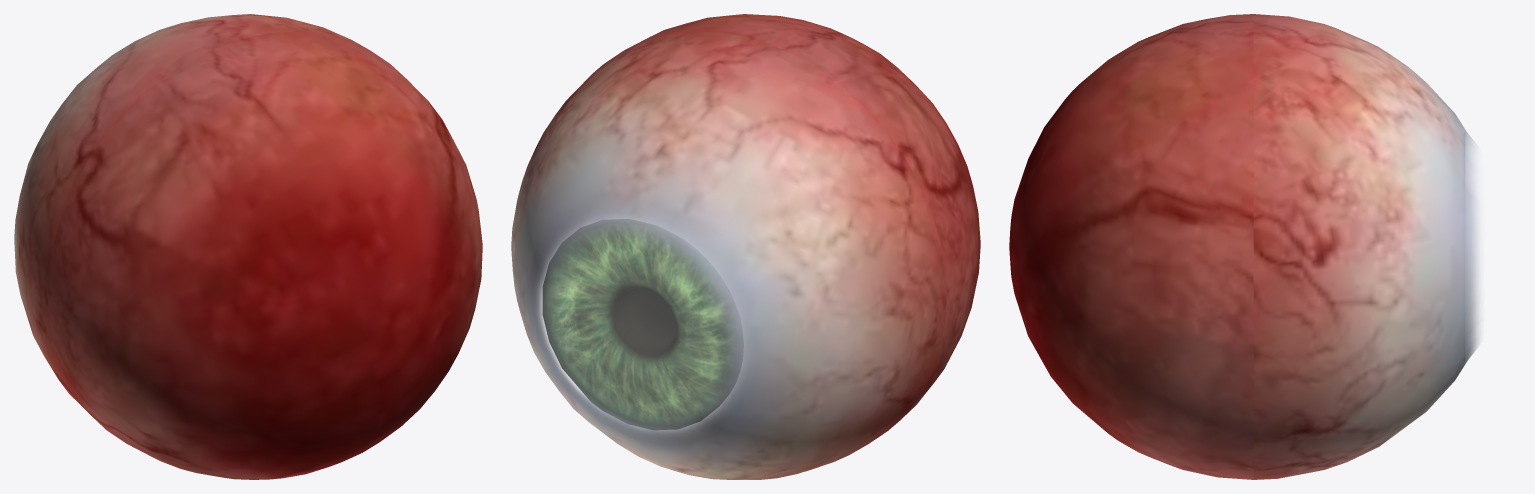
File: PRP_EyeModel_lod.glb
The picture shows the model from 3 angles, left to right: view 1: azimuth 30°, elevation 25°; view 2: azimuth 150°, elevation 25°; view 3: azimuth 270°, elevation 25°; orthographic projection.
Parts seen in each view (by area): view 1: Sclera_Sclera_001_Material_0; view 2: Sclera_Sclera_001_Material_0, Iris_Iris_001_Material_0; view 3: Sclera_Sclera_001_Material_0.
Boxes of the visible parts, <box> form: Sclera_Sclera_001_Material_0: <box>14,14,482,479</box>; Sclera_Sclera_001_Material_0: <box>511,14,980,479</box>; Iris_Iris_001_Material_0: <box>542,219,742,429</box>; Sclera_Sclera_001_Material_0: <box>1009,14,1480,479</box>.
Bounding box in the file's own units: 229 × 229 × 251.
2 materials, 2 textured.
